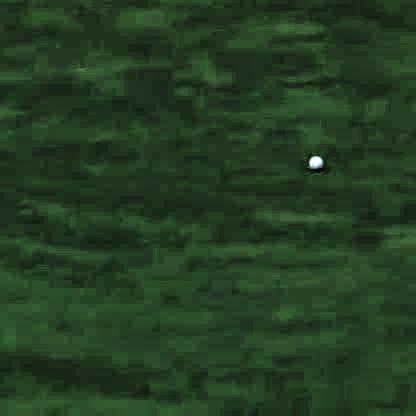golfball: (306, 150, 322, 168)
